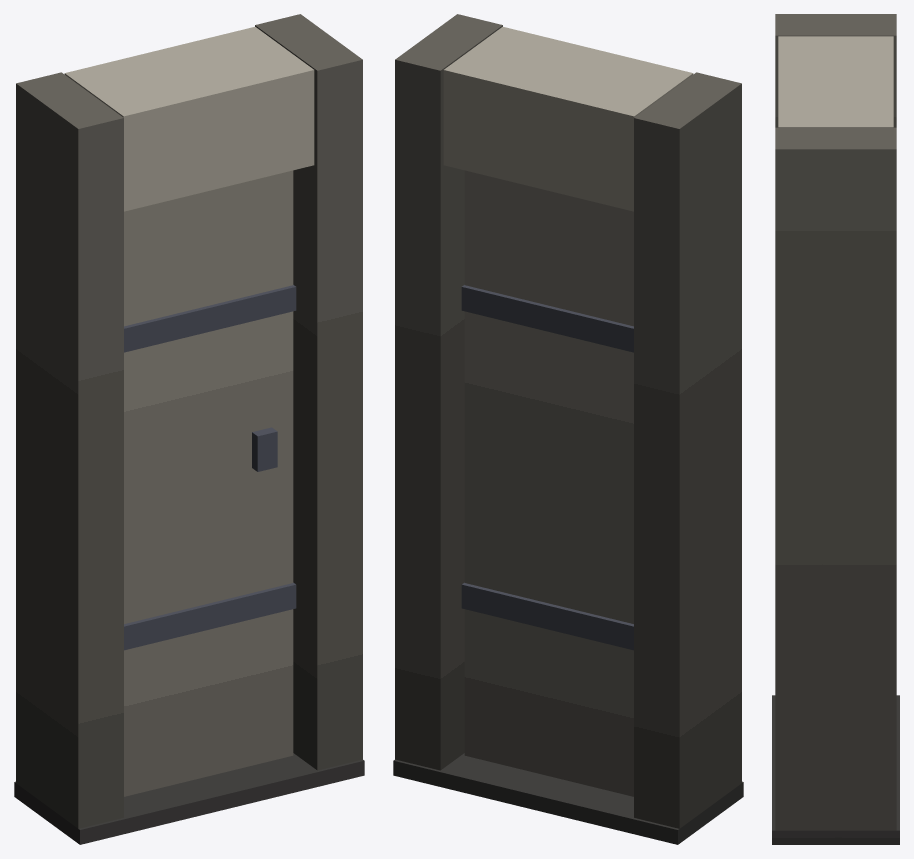
Rendered from door_stone.glb.
The picture shows the model from 3 angles, left to right: view 1: azimuth 30°, elevation 25°; view 2: azimuth 150°, elevation 25°; view 3: azimuth 270°, elevation 25°; orthographic projection. The views are drawn at different scales.
Size of the model in its own units: 1 by 2.4 by 0.4.
1 material, 1 textured.
